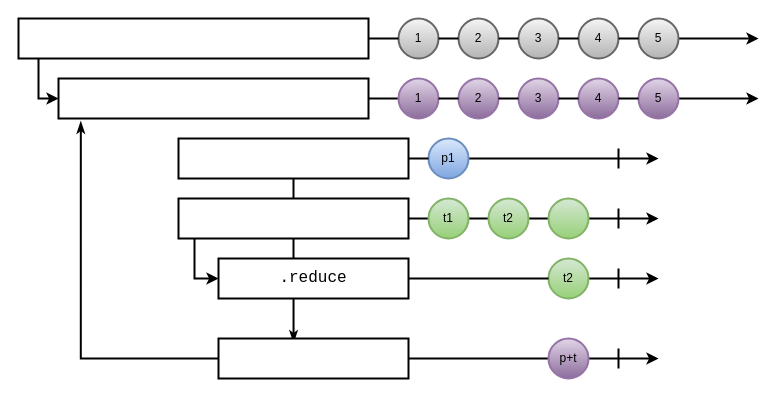
This 784x397 diagram has some shape labels left out. Each missing label, with the centre of its shape:
.flatMap: (213,98)
.zip: (313,358)
getUserProfile(): (293,158)
getUserRecentTweets(): (293,218)
screenName: (193,38)
t3: (568,218)
